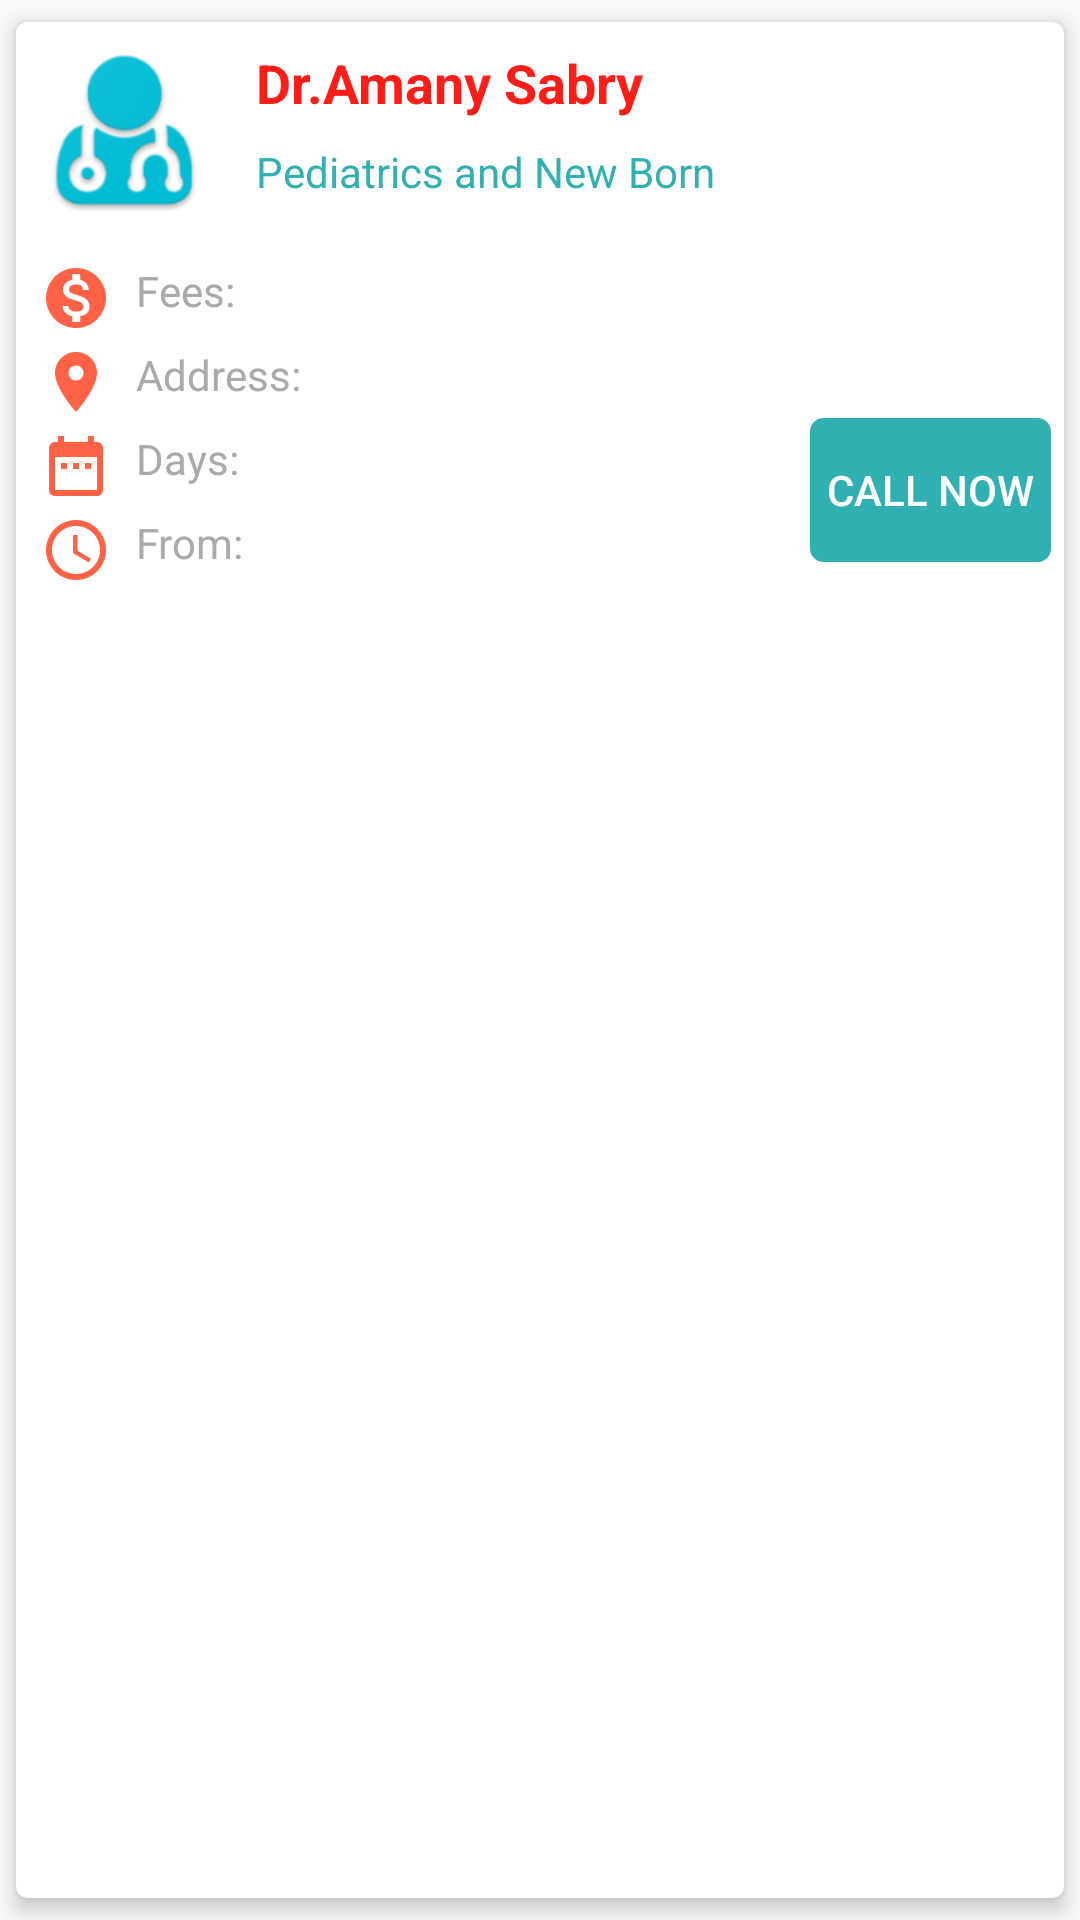

Icons on this 1080 × 1920 Android screen, each with its box as (x1, y1, x2, y2):
Doctor Icon: (55, 55, 194, 209)
